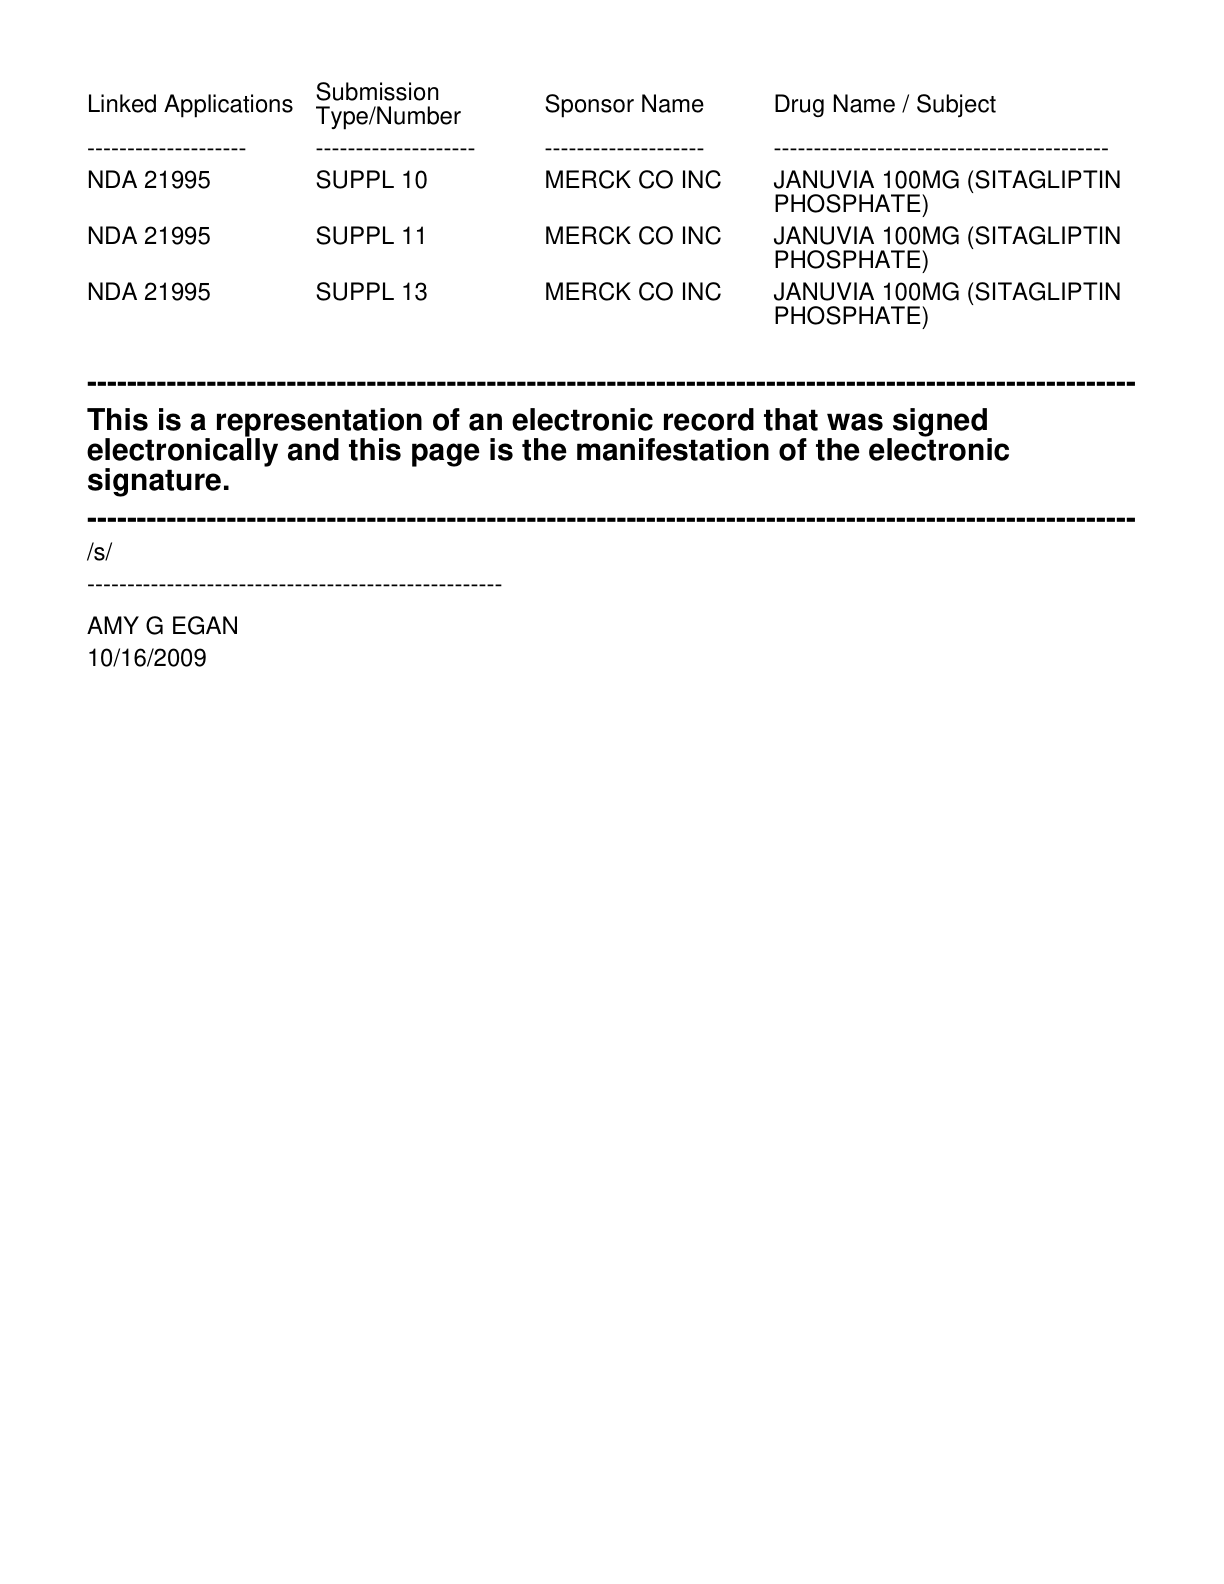nolines: (84, 80, 1128, 330)
